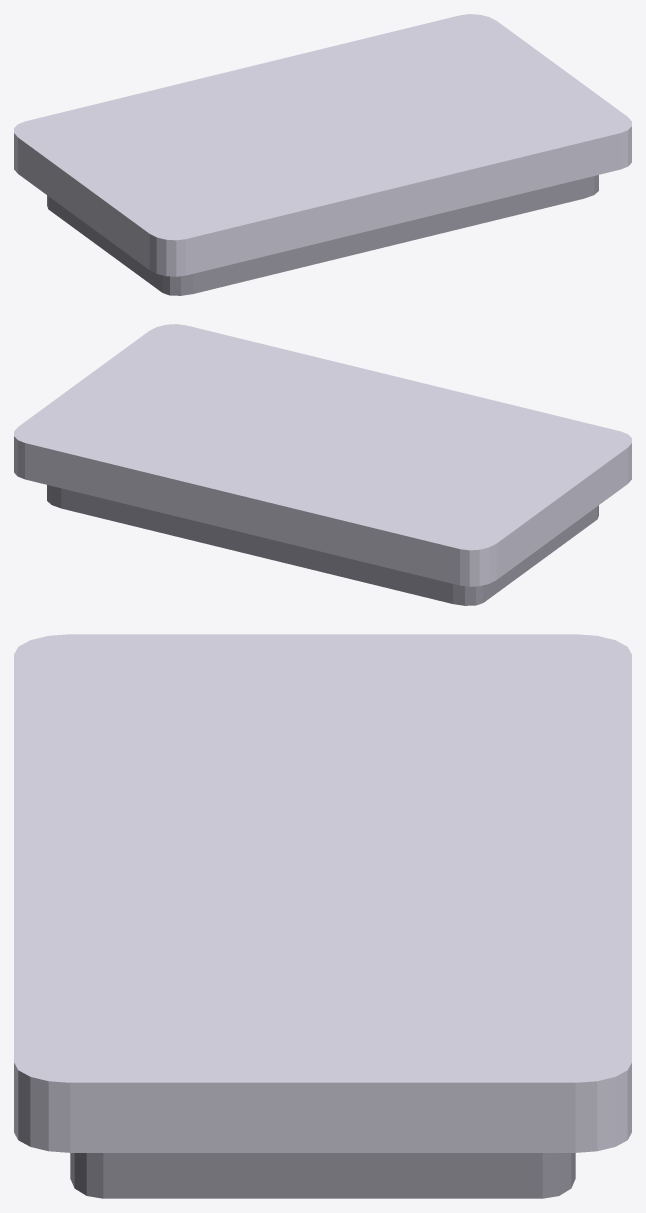
File: FloorSilver.obj
3 views of the same model, one above another, from view 1: azimuth 30°, elevation 25°; view 2: azimuth 150°, elevation 25°; view 3: azimuth 270°, elevation 25° (orthographic). The views are drawn at different scales.
Parts seen in each view (by area): view 1: Cube; view 2: Cube; view 3: Cube.
Part boxes in pixels (x1,y1,x2,y2): Cube: (14,14,631,295); Cube: (14,324,631,605); Cube: (14,634,631,1198).
Size of the model in its own units: 13.98 by 2.72 by 8.14.
